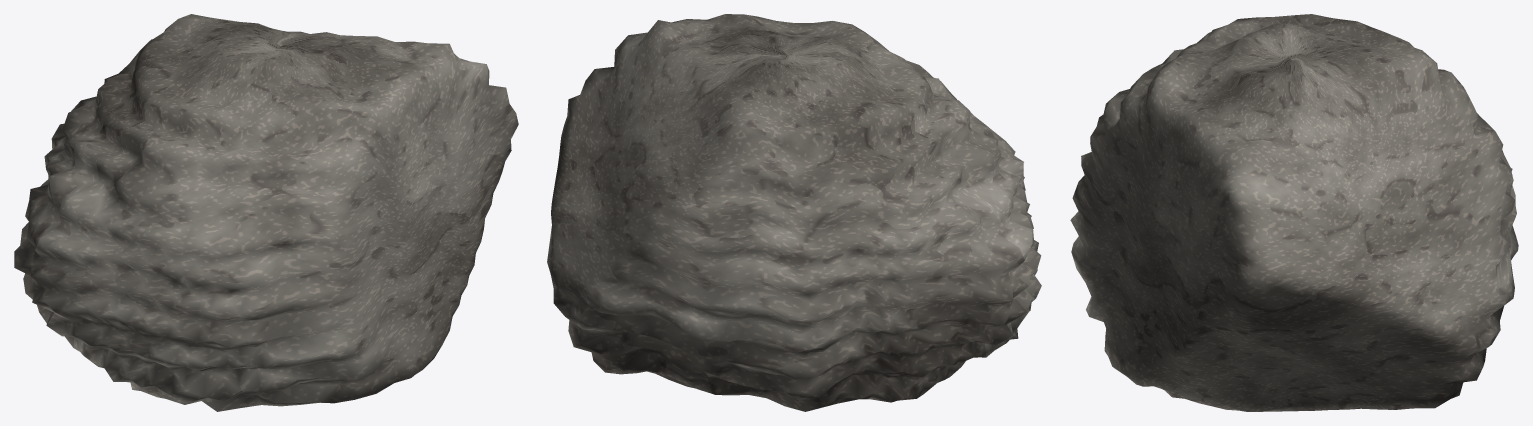
File: PZ_R06_Layered_Shale_Boulder_Granite.glb
The picture shows the model from 3 angles, left to right: view 1: azimuth 30°, elevation 25°; view 2: azimuth 150°, elevation 25°; view 3: azimuth 270°, elevation 25°; orthographic projection. The views are drawn at different scales.
Visible parts, largest first — view 1: RENDER_R06_Layered_Shale_Boulder_Granite; view 2: RENDER_R06_Layered_Shale_Boulder_Granite; view 3: RENDER_R06_Layered_Shale_Boulder_Granite.
Part boxes in pixels (x1,y1,x2,y2): RENDER_R06_Layered_Shale_Boulder_Granite: (14, 14, 518, 411); RENDER_R06_Layered_Shale_Boulder_Granite: (547, 14, 1041, 411); RENDER_R06_Layered_Shale_Boulder_Granite: (1070, 14, 1518, 411).
Size of the model in its own units: 1.75 by 1.04 by 1.41.
1 material, 1 textured.
